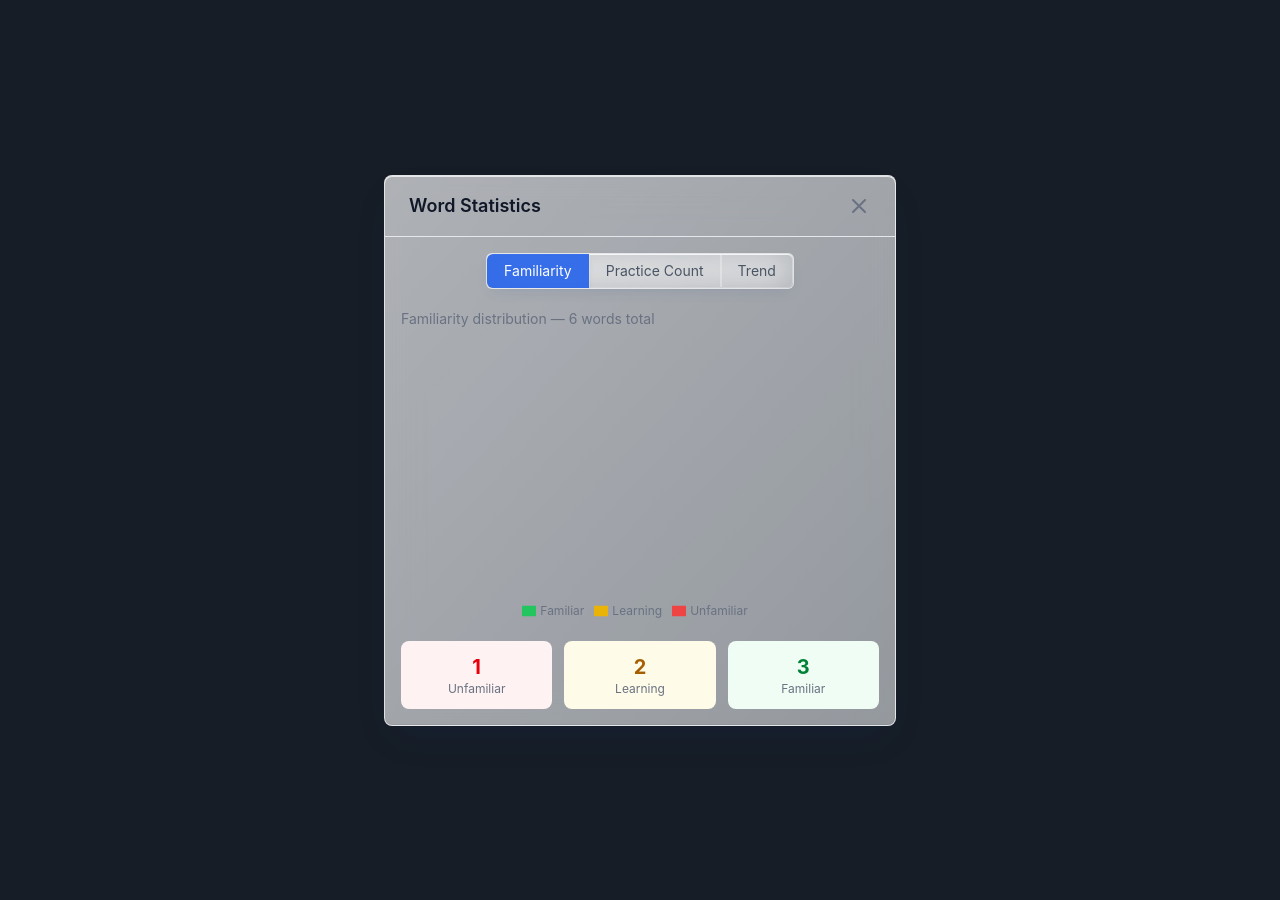
Test case: WordStatsModal › switches to the practice count tab when selected
The width and height of the screenshot is (1280, 900).
Expected: the text "Familiarity distribution — 6 words total" is shown, [401,310,654,326]
Click the button "Practice Count" at (655,270), box [589,254,721,288]
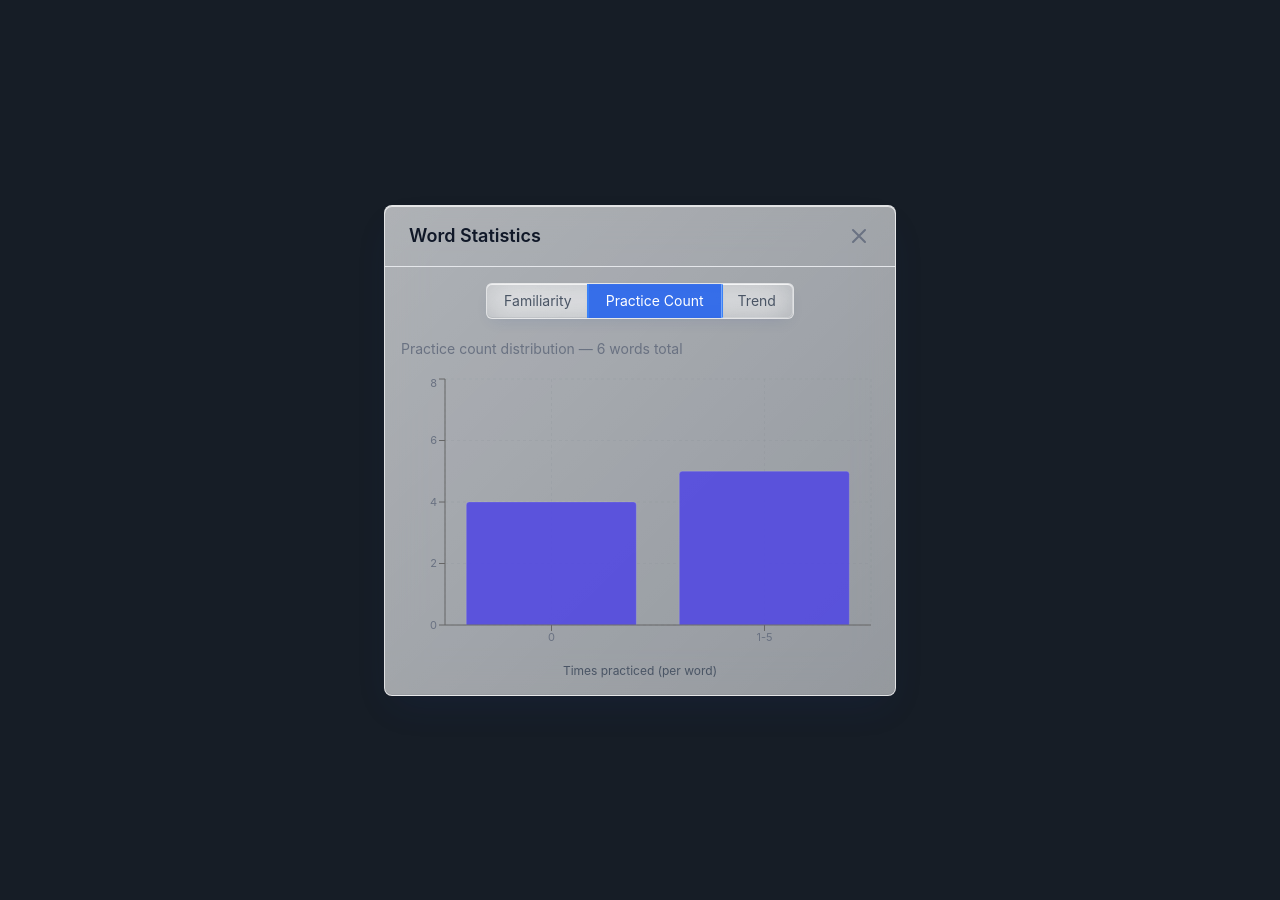
Expected: the text "Practice count distribution — 6 words total" is shown, [401,340,683,356]
Expected: the text "Times practiced (per word)" is shown, [563,662,717,678]
